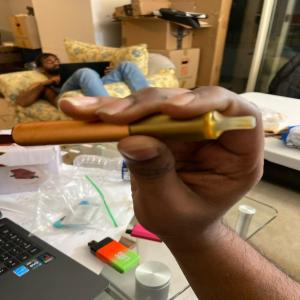Golden-E-Ciggirate: (8, 110, 257, 150)
